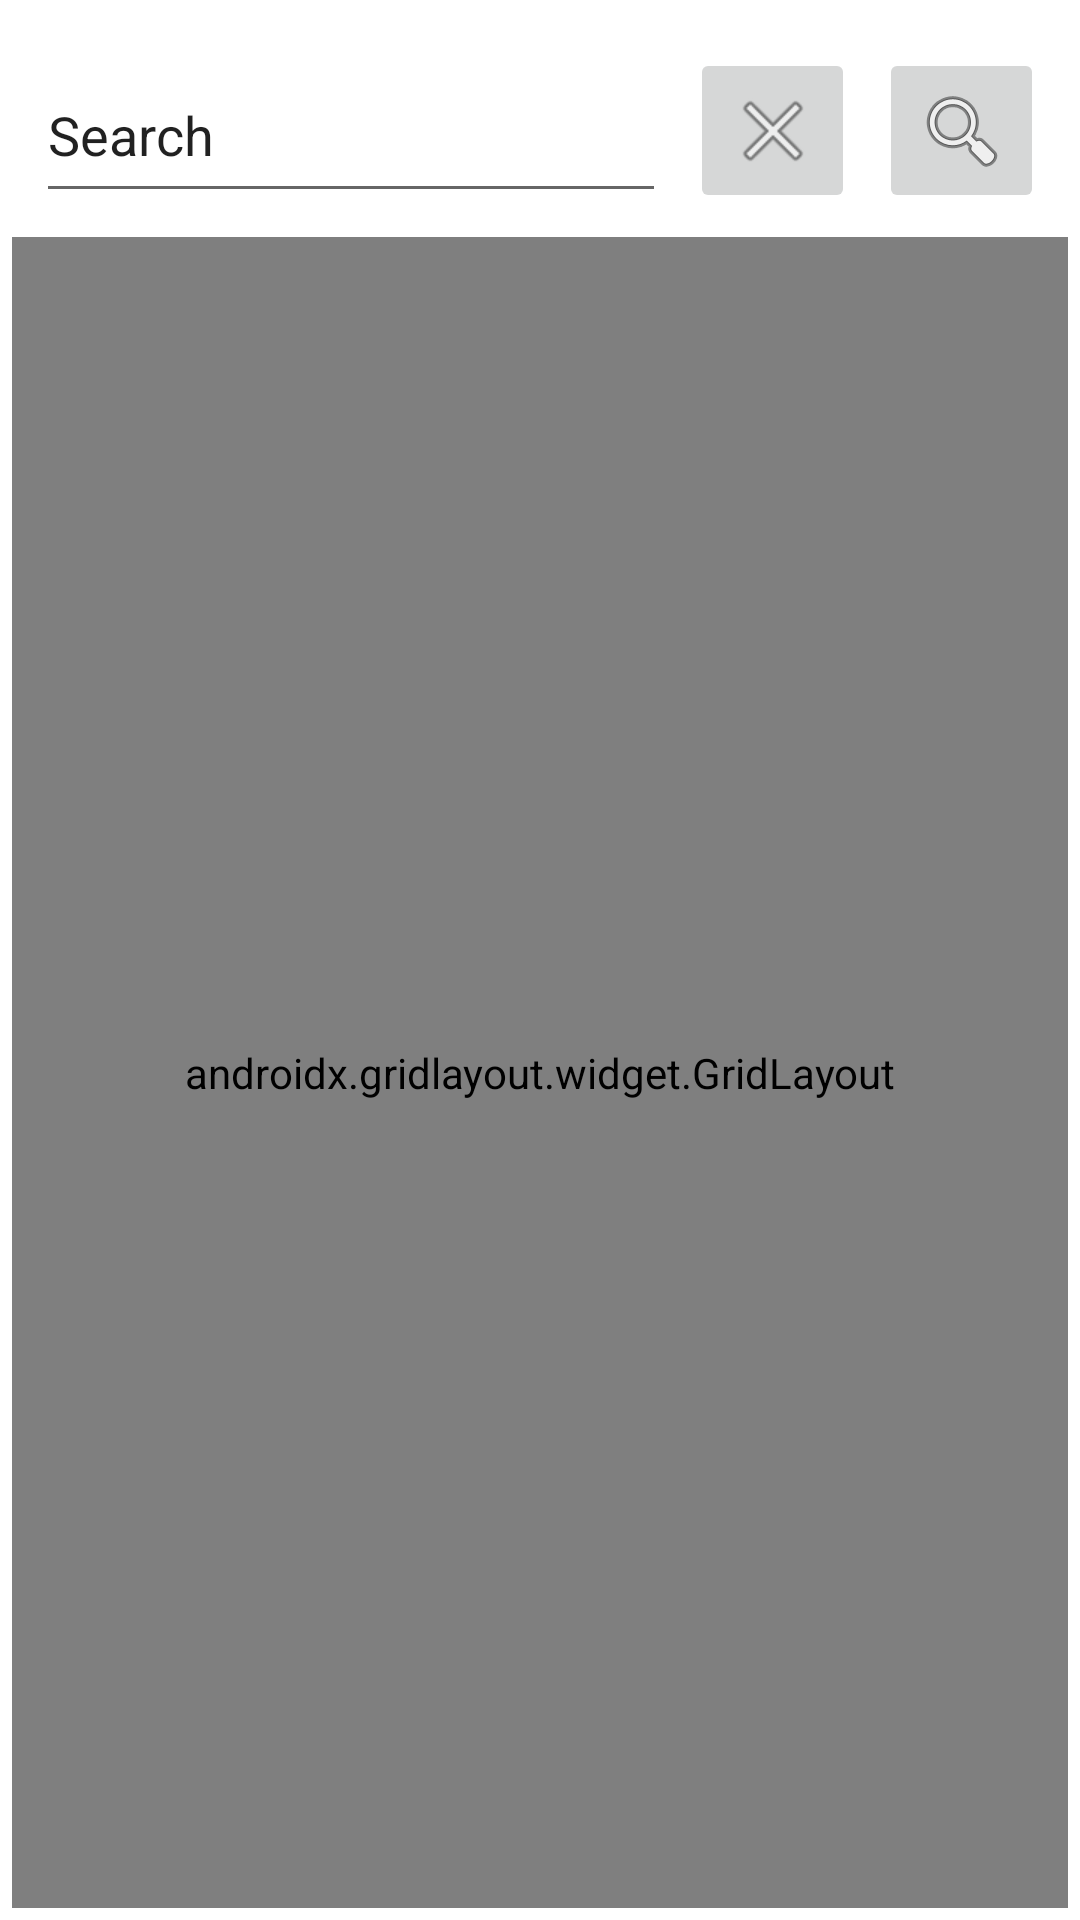

Screen size 1080w x 1920h. Icon name, then its center in pixels as point (x, y):
close clear cancel: point (772, 130)
search: point (961, 130)
